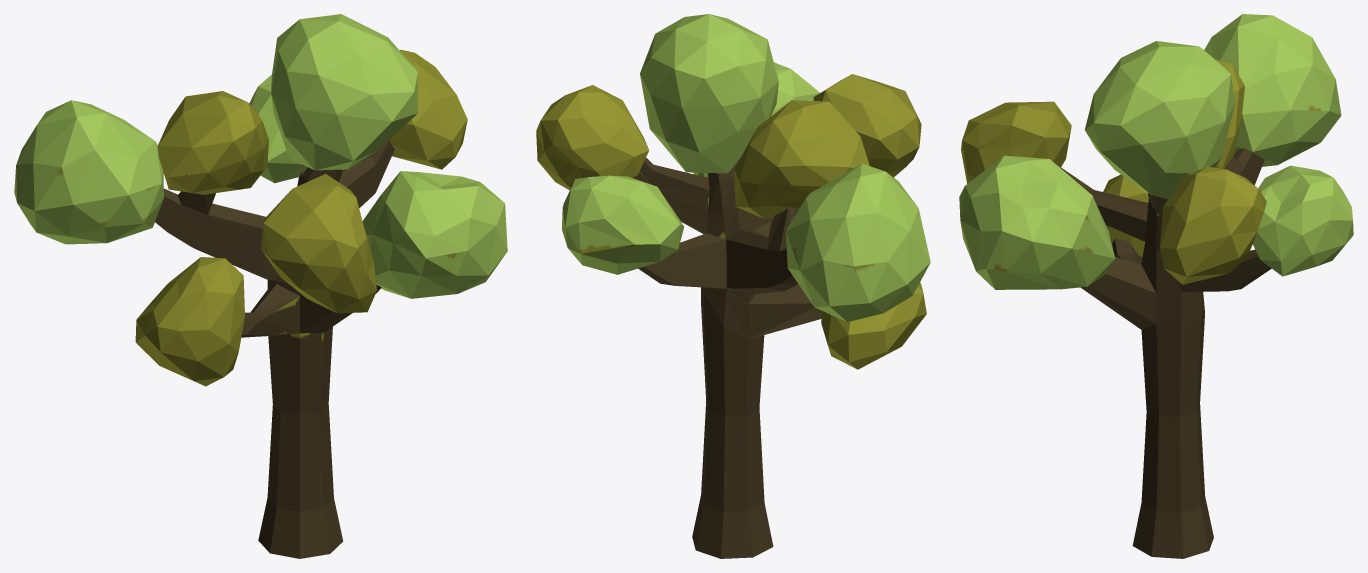
The model's file is tree_Normal.obj.
3 views of the same model, side by side, from view 1: azimuth 30°, elevation 25°; view 2: azimuth 150°, elevation 25°; view 3: azimuth 270°, elevation 25° (orthographic).
Parts seen in each view (by area): view 1: Arbre_Normal; view 2: Arbre_Normal; view 3: Arbre_Normal.
Boxes of the visible parts, x1,y1,x2,y2 form: Arbre_Normal: (14, 14, 507, 558); Arbre_Normal: (536, 14, 930, 558); Arbre_Normal: (959, 14, 1353, 558).
Size of the model in its own units: 3.18 by 3.92 by 2.75.
Materials: 1 (1 with a texture image).
